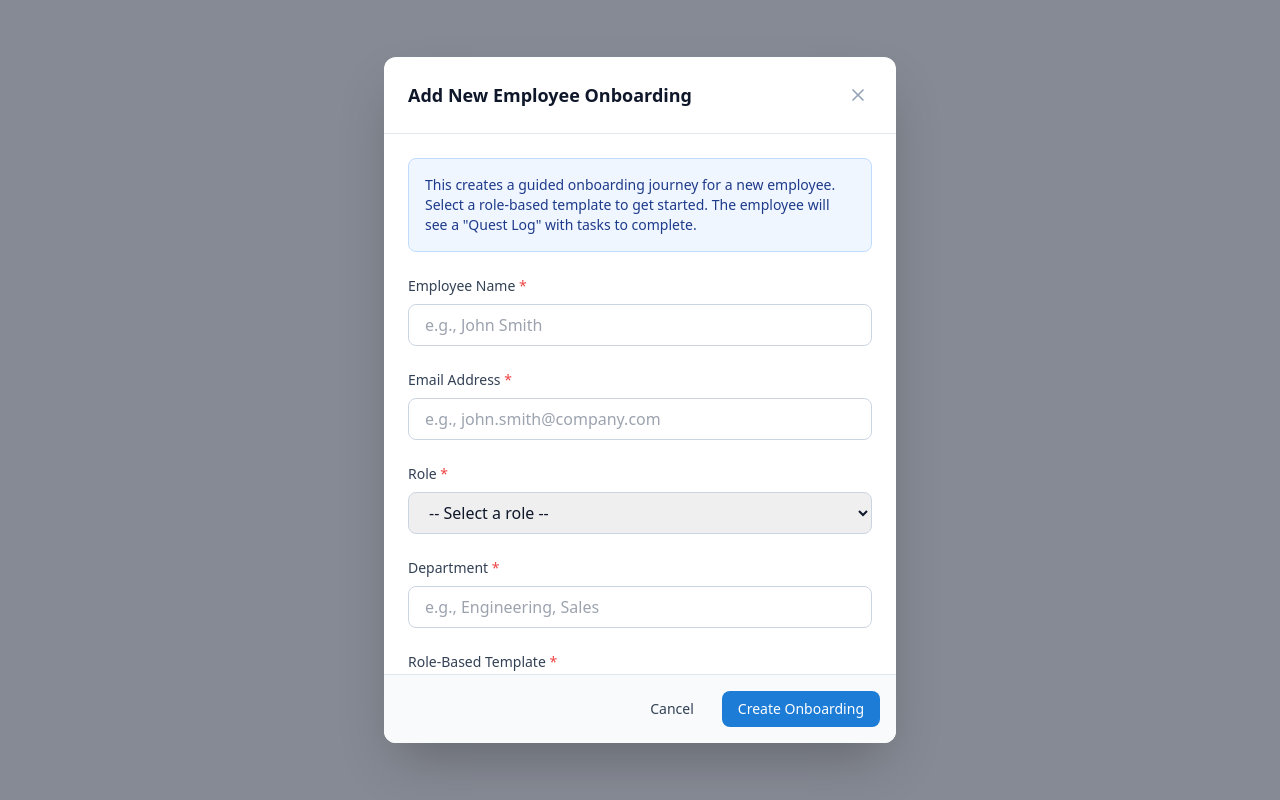
Test: CreateOnboardingModal Component › should show validation error for missing employee name
The width and height of the screenshot is (1280, 800).
Click the button "Create Onboarding" at (801, 709), box [722, 691, 880, 727]
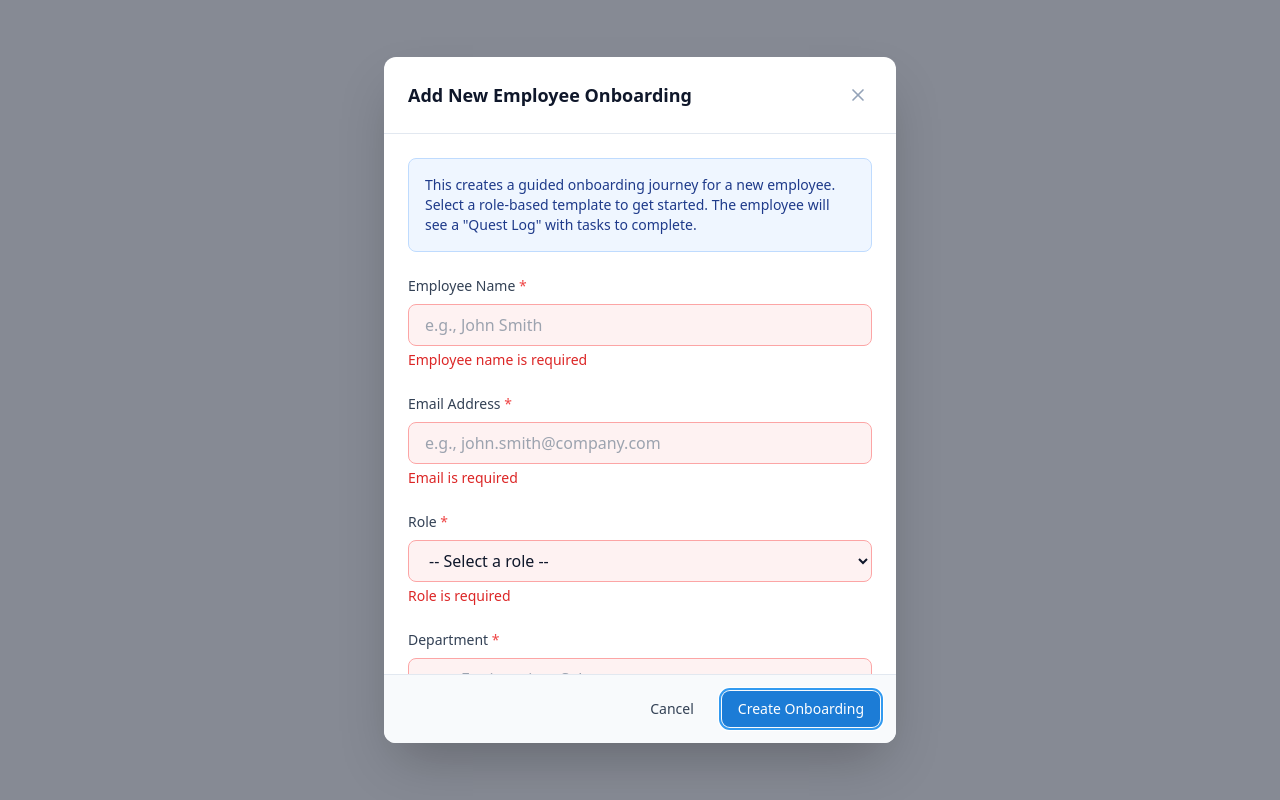
Now the text "Employee name is required" is shown, box [408, 350, 587, 369]
